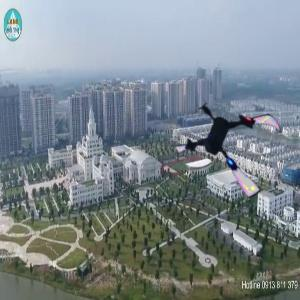drone: (178, 89, 290, 201)
